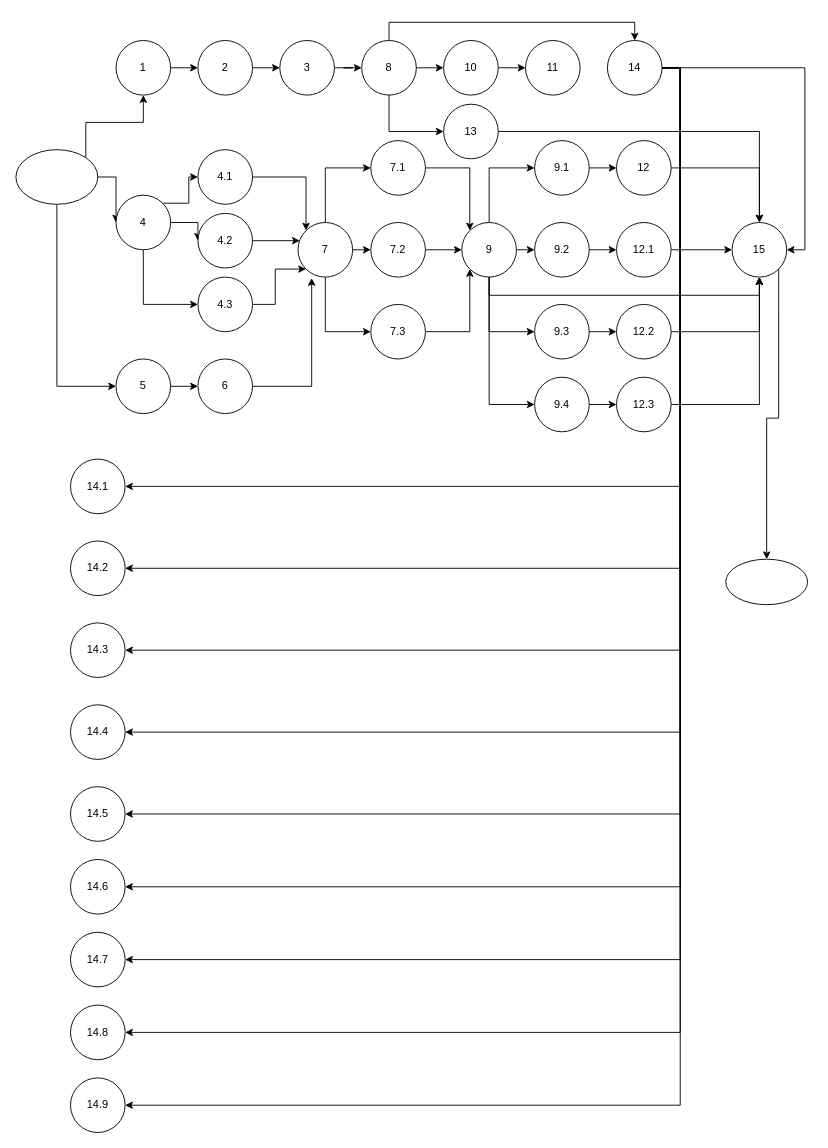
The diagram is 828 pixels wide and 1148 high, and some of its shapes have lost their labels. The shapes that lost their labels are listed below. From the top down, each one's centre as x and y in pixels, then its label:
At [56,176]: "Inizio".
At [766,581]: "Fine".
